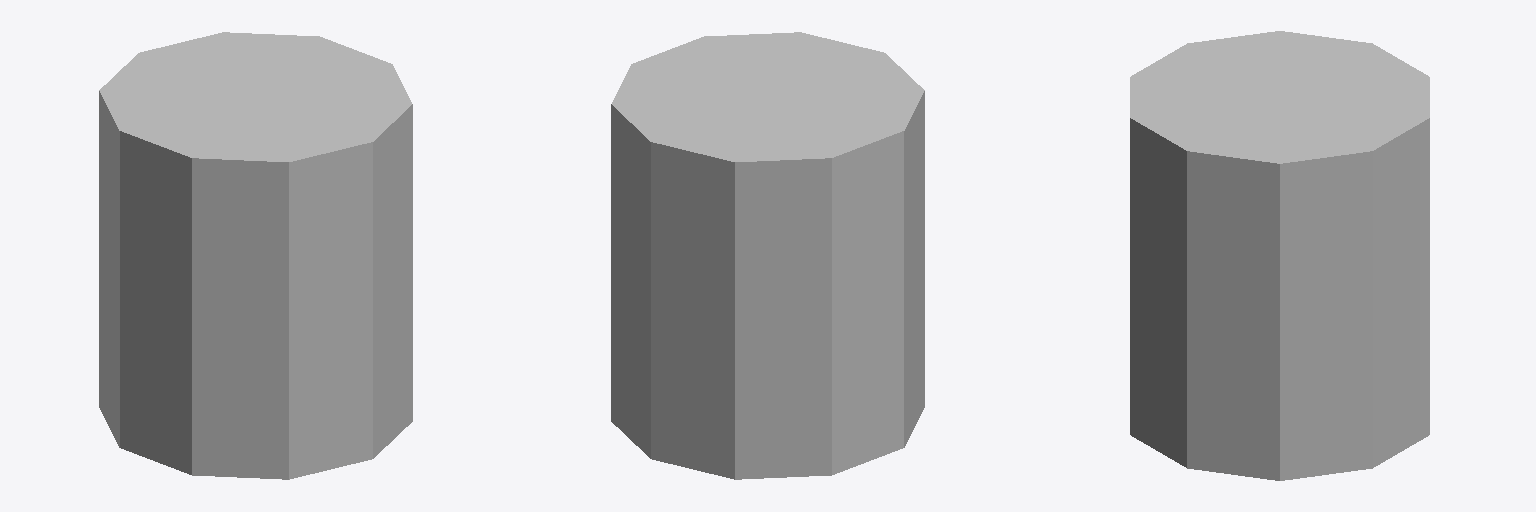
Rendered from pole.obj.
3 views of the same model, side by side, from view 1: azimuth 30°, elevation 25°; view 2: azimuth 150°, elevation 25°; view 3: azimuth 270°, elevation 25° (orthographic).
Parts seen in each view (by area): view 1: Cube; view 2: Cube; view 3: Cube.
Boxes of the visible parts, box(x1,y1,x2,y2) form: Cube: box(99, 32, 412, 479); Cube: box(611, 32, 924, 479); Cube: box(1130, 31, 1429, 480).
Bounding box in the file's own units: 1.8 × 2 × 1.71.